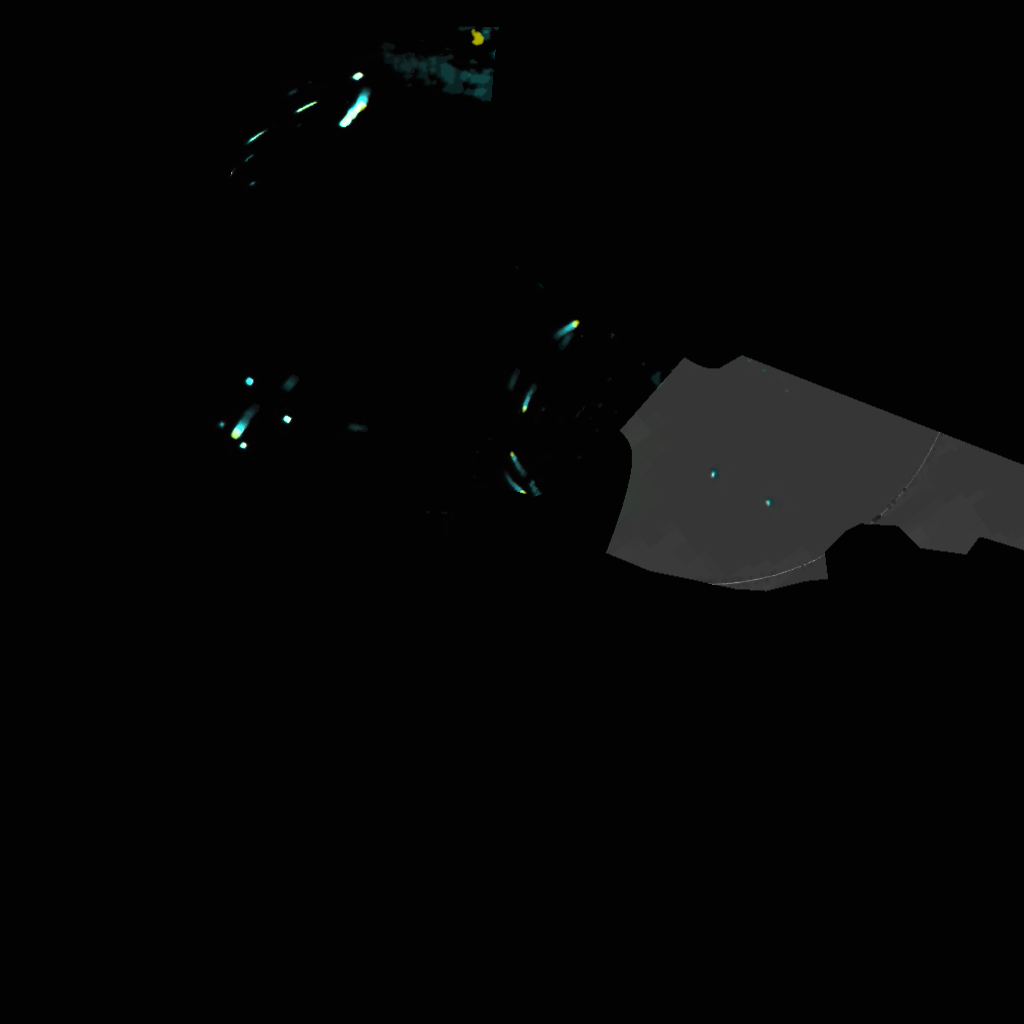B: (519, 392, 537, 414), (561, 319, 581, 338), (232, 415, 251, 434), (507, 480, 526, 496), (508, 451, 522, 470), (345, 101, 363, 115), (355, 91, 369, 108)
